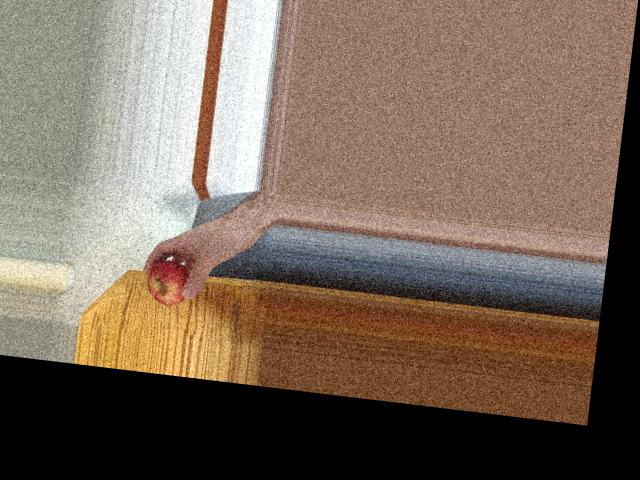apple: (143, 257, 198, 309)
